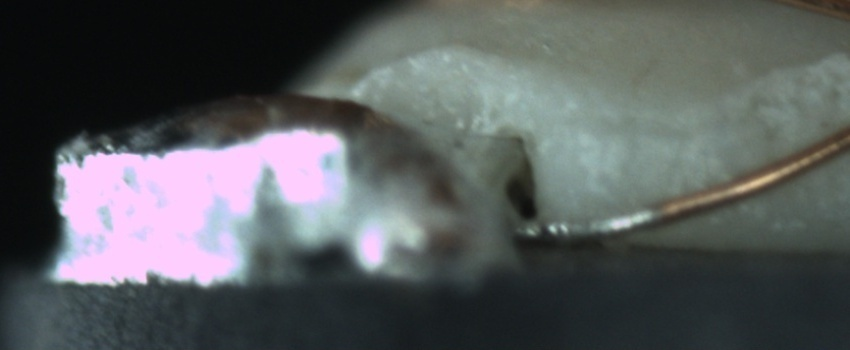DL: (568, 98, 714, 160)
TS: (513, 204, 655, 241)
